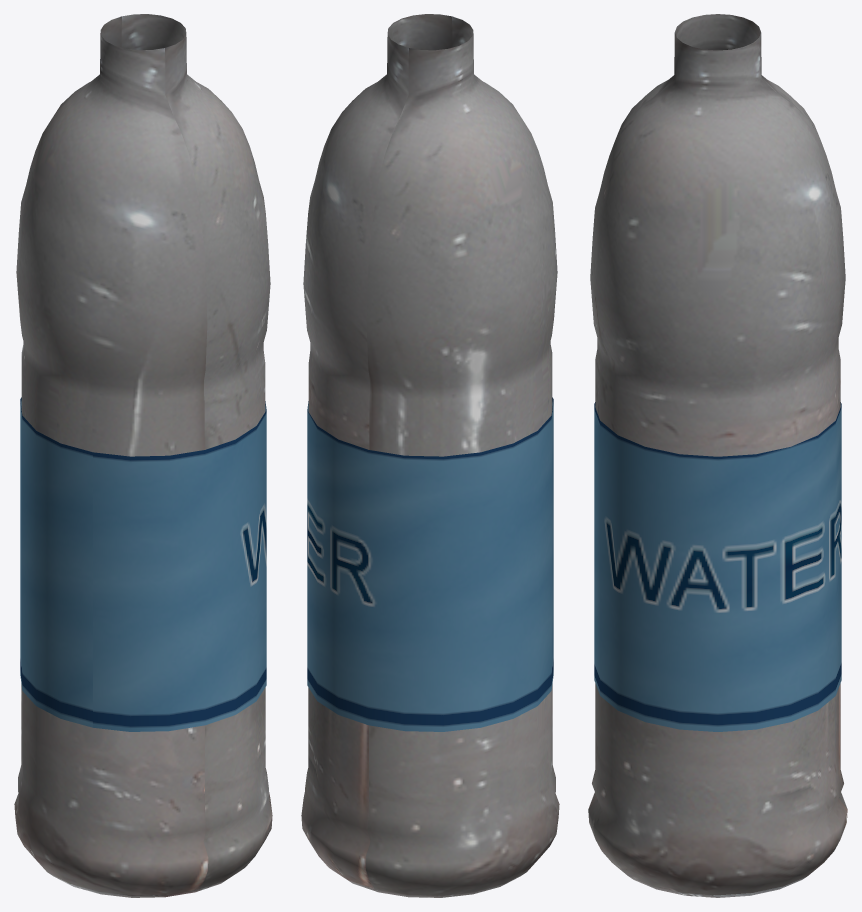
Rendered from bottle2.obj.
The picture shows the model from 3 angles, left to right: view 1: azimuth 30°, elevation 25°; view 2: azimuth 150°, elevation 25°; view 3: azimuth 270°, elevation 25°; orthographic projection.
Visible parts, largest first — view 1: bottle2; view 2: bottle2; view 3: bottle2.
Part boxes in pixels (x1=…): bottle2: x1=14, y1=14, x2=272, y2=897; bottle2: x1=301, y1=14, x2=559, y2=897; bottle2: x1=588, y1=14, x2=847, y2=897.
Size of the model in its own units: 71.05 by 250 by 71.05.
